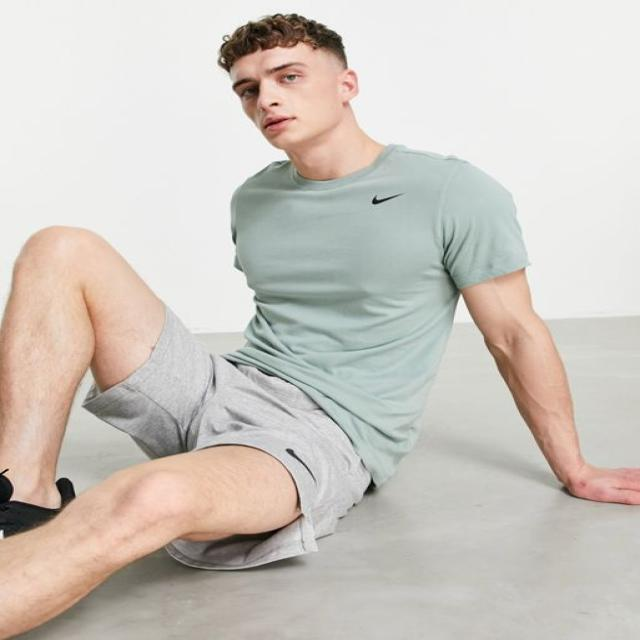tshirt: (218, 140, 533, 487)
